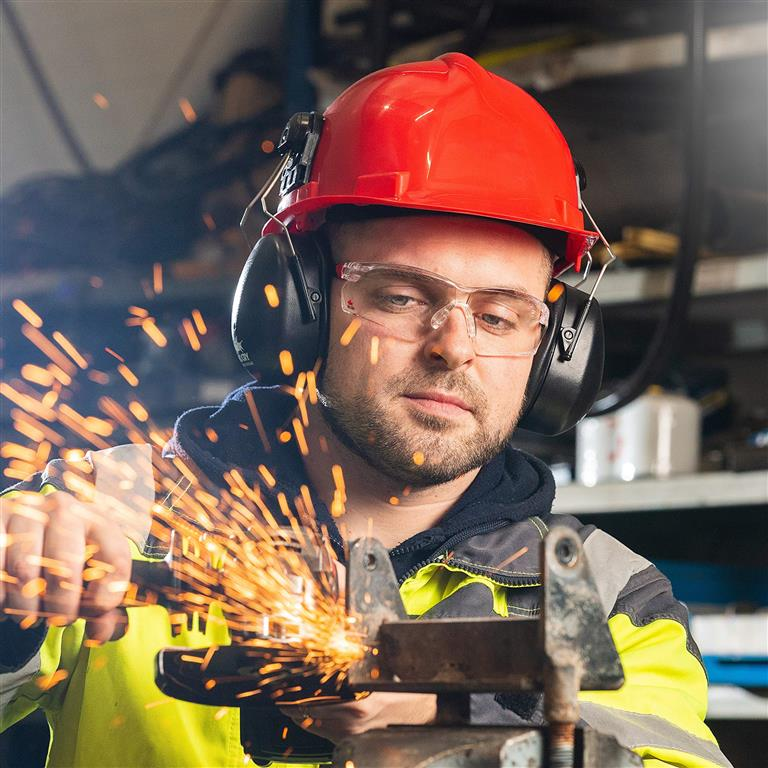Helmet: (261, 46, 618, 271)
